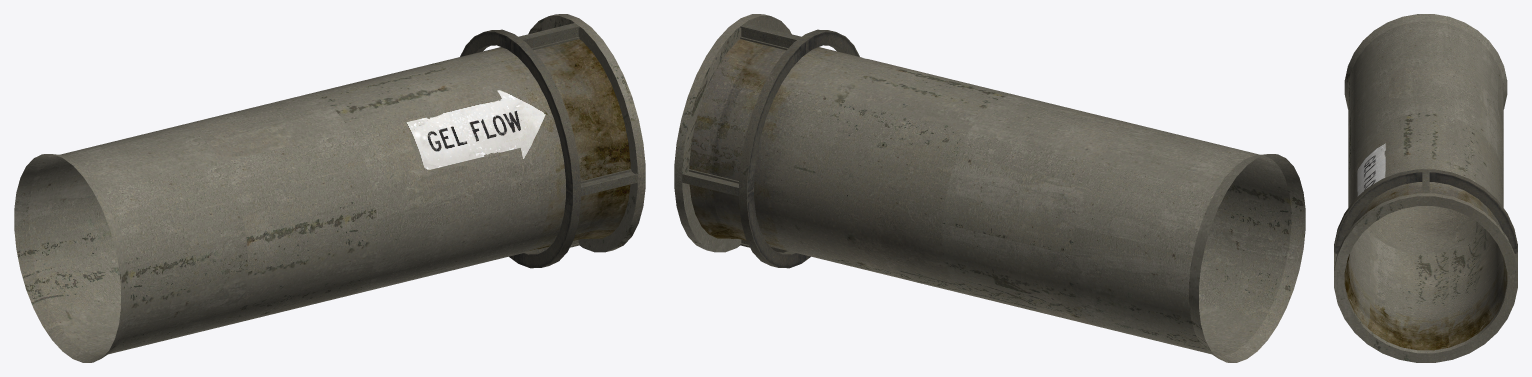
File: tube_paint_256b.glb
3 views of the same model, side by side, from view 1: azimuth 30°, elevation 25°; view 2: azimuth 150°, elevation 25°; view 3: azimuth 270°, elevation 25° (orthographic). The views are drawn at different scales.
Parts seen in each view (by area): view 1: tube_paint_256b; view 2: tube_paint_256b; view 3: tube_paint_256b.
Boxes of the visible parts, x1=… form: tube_paint_256b: x1=14, y1=14, x2=645, y2=362; tube_paint_256b: x1=674, y1=14, x2=1305, y2=362; tube_paint_256b: x1=1334, y1=14, x2=1517, y2=362.
Size of the model in its own units: 4.88 by 1.97 by 1.97.
Materials: 1 (1 with a texture image).
